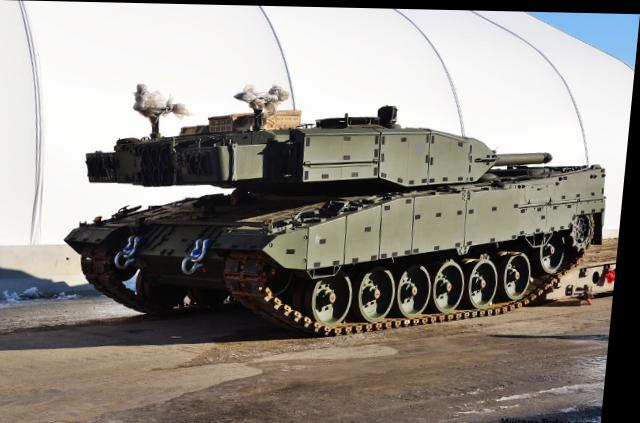tank: (52, 73, 622, 340)
